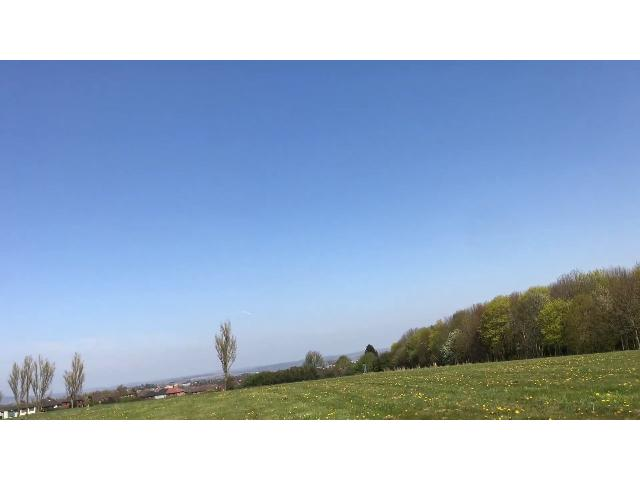Anti-Drone: (234, 305, 258, 323)
